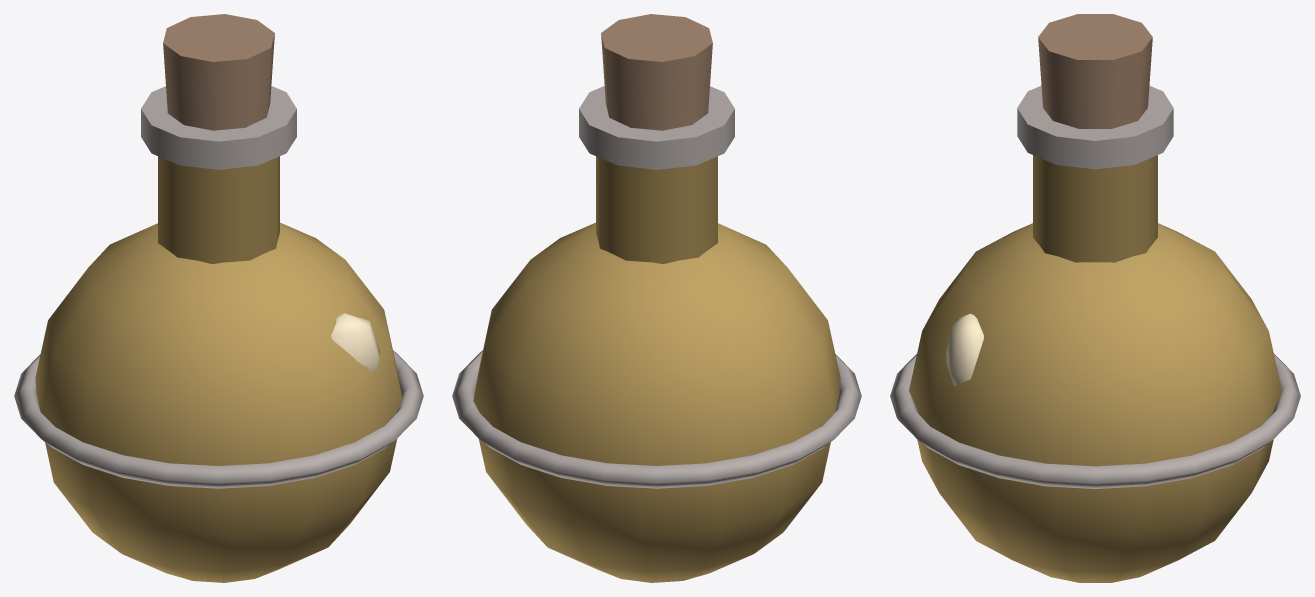
File: pickup_potion.glb
3 renders of one model, left to right at view 1: azimuth 30°, elevation 25°; view 2: azimuth 150°, elevation 25°; view 3: azimuth 270°, elevation 25°, orthographic.
Parts seen in each view (by area): view 1: glow*0.5, plank, glow*0.35, girder*1.001, girder*1.4, cloth2*1.1; view 2: glow*0.5, plank, glow*0.35, girder*1.001, girder*1.4; view 3: glow*0.5, plank, glow*0.35, girder*1.001, girder*1.4, cloth2*1.1.
Part boxes in pixels (box(x1,y1,x2,y2)): glow*0.5: box(35, 222, 402, 582); plank: box(163, 14, 274, 130); glow*0.35: box(158, 156, 279, 264); girder*1.001: box(14, 350, 423, 488); girder*1.4: box(141, 86, 296, 169); cloth2*1.1: box(331, 313, 380, 374); glow*0.5: box(473, 222, 840, 582); plank: box(601, 14, 712, 130); glow*0.35: box(596, 156, 717, 264); girder*1.001: box(452, 350, 861, 488); girder*1.4: box(579, 86, 734, 169); glow*0.5: box(909, 223, 1281, 582); plank: box(1038, 14, 1152, 128); glow*0.35: box(1033, 155, 1157, 262); girder*1.001: box(890, 354, 1300, 488); girder*1.4: box(1017, 85, 1173, 169); cloth2*1.1: box(946, 313, 983, 385).
Size of the model in its own units: 0.394 by 0.56 by 0.394.
